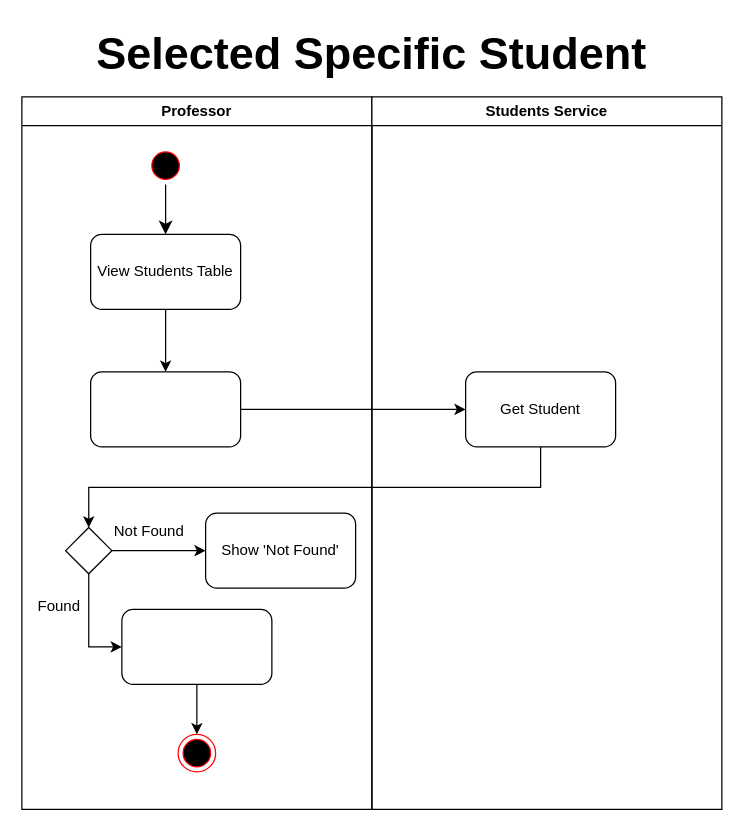
This 744x831 diagram has some shape labels left out. The shapes that lost their labels are listed below. From the top down, each one's centre as x and y in pixels, then its label:
(x=165, y=409): Click Row of Table
(x=196, y=646): Show Student Profile
